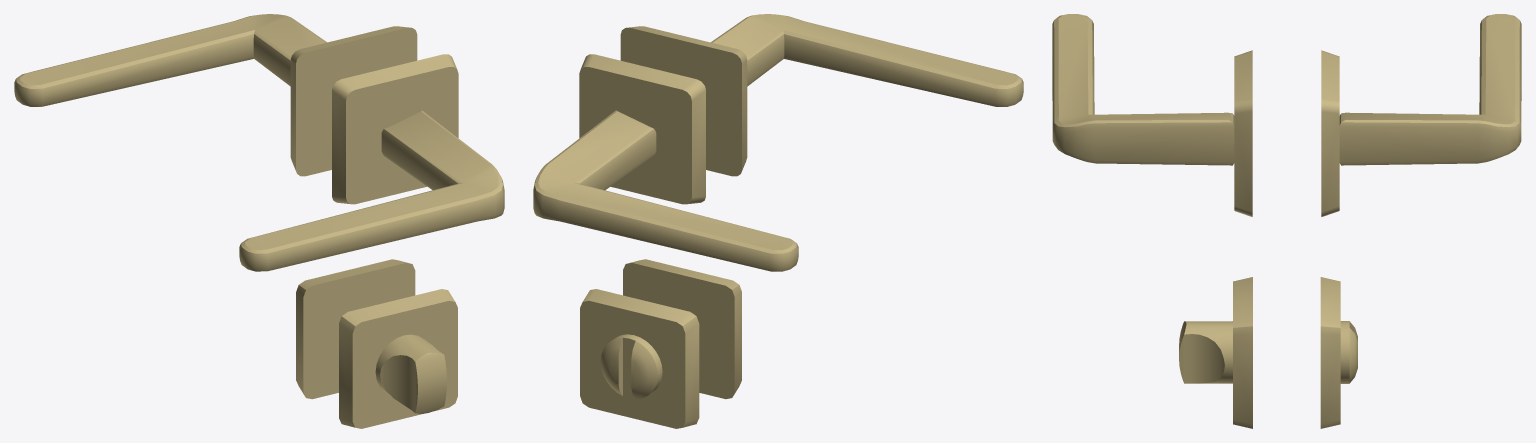
File: 23_MARSEILLE_Brnak.glb
The picture shows the model from 3 angles, left to right: view 1: azimuth 30°, elevation 25°; view 2: azimuth 150°, elevation 25°; view 3: azimuth 270°, elevation 25°; orthographic projection. The views are drawn at different scales.
Parts seen in each view (by area): view 1: 23_MARSEILLE_Brnak; view 2: 23_MARSEILLE_Brnak; view 3: 23_MARSEILLE_Brnak.
Boxes of the visible parts, <box> form: 23_MARSEILLE_Brnak: <box>14,14,504,428</box>; 23_MARSEILLE_Brnak: <box>533,14,1023,428</box>; 23_MARSEILLE_Brnak: <box>1052,14,1521,428</box>.
Size of the model in its own units: 0.1753 by 0.1914 by 0.2462.
